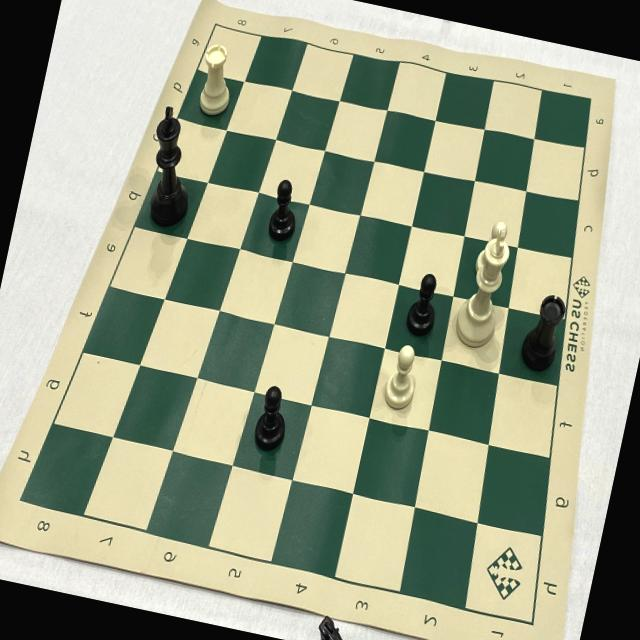black-king: (131, 93, 214, 240)
black-pawn: (242, 373, 302, 463), (257, 162, 313, 256), (398, 256, 452, 346)
black-rook: (512, 274, 584, 380)
white-king: (445, 223, 528, 359)
white-pawn: (370, 336, 428, 419), (464, 212, 520, 292)
white-rook: (188, 34, 247, 129)
